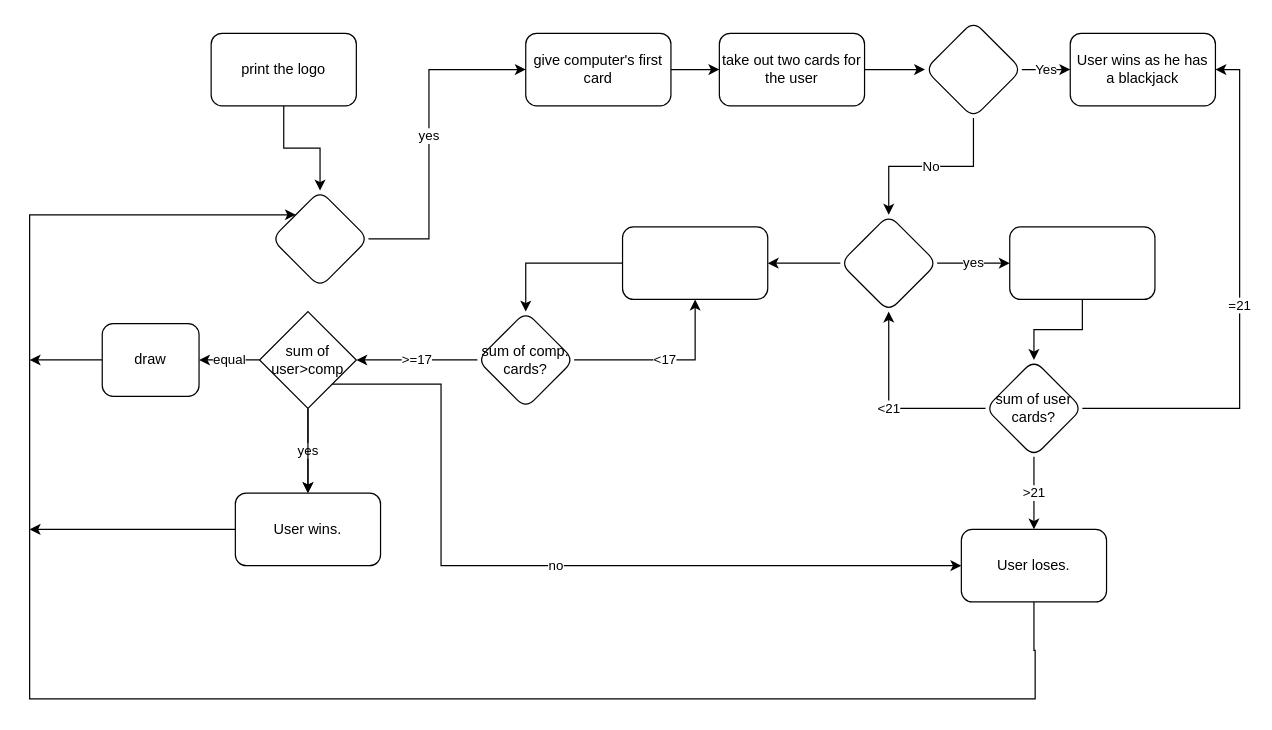
This 1272x730 diagram has some shape labels left out. Each missing label, with the box of its shape:
does the user have a blackjack?: (924, 20, 1022, 118)
does the user want another card?: (839, 214, 937, 312)
does the user want to play?: (270, 189, 368, 287)
take another card out for the user: (1009, 226, 1155, 299)
take out another card for the computer: (621, 226, 768, 299)
